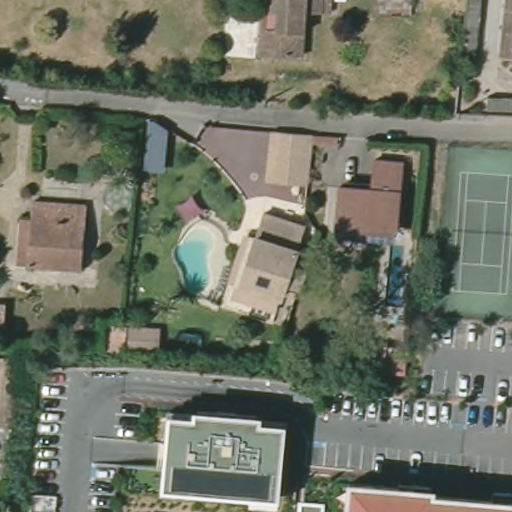pool: (171, 227, 215, 295)
